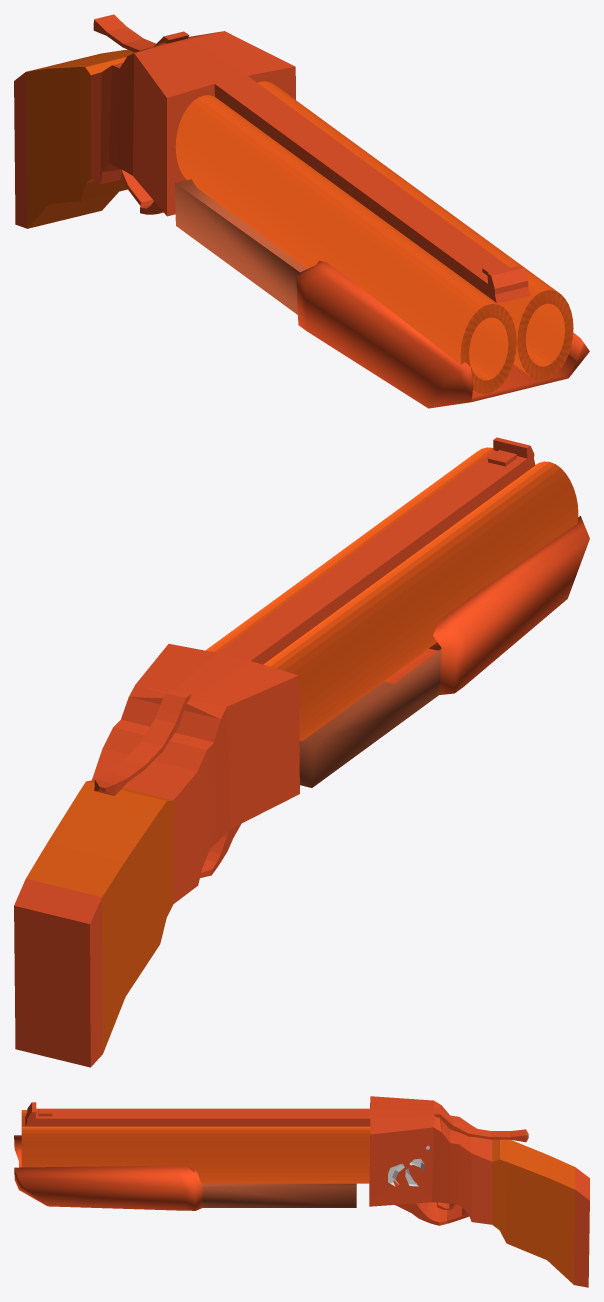
Rendered from Shotgun_Doble_Canon.fbx.
The picture shows the model from 3 angles, top to bottom: view 1: azimuth 30°, elevation 25°; view 2: azimuth 150°, elevation 25°; view 3: azimuth 270°, elevation 25°; orthographic projection. The views are drawn at different scales.
Visible parts, largest first — view 1: Escopeta Doble Cañón; view 2: Escopeta Doble Cañón; view 3: Escopeta Doble Cañón.
Part boxes in pixels (left/top/right/bottom): Escopeta Doble Cañón: left=14, top=14, right=589, bottom=408; Escopeta Doble Cañón: left=14, top=437, right=589, bottom=1067; Escopeta Doble Cañón: left=14, top=1096, right=589, bottom=1287.
Bounding box in the file's own units: 88.59 × 144 × 443.
